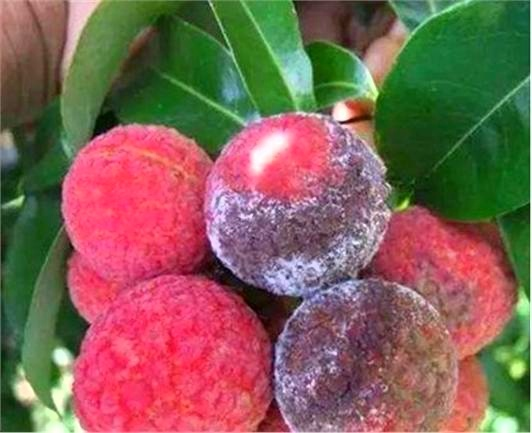Frost_Blight: (207, 113, 412, 271), (287, 283, 459, 412)
